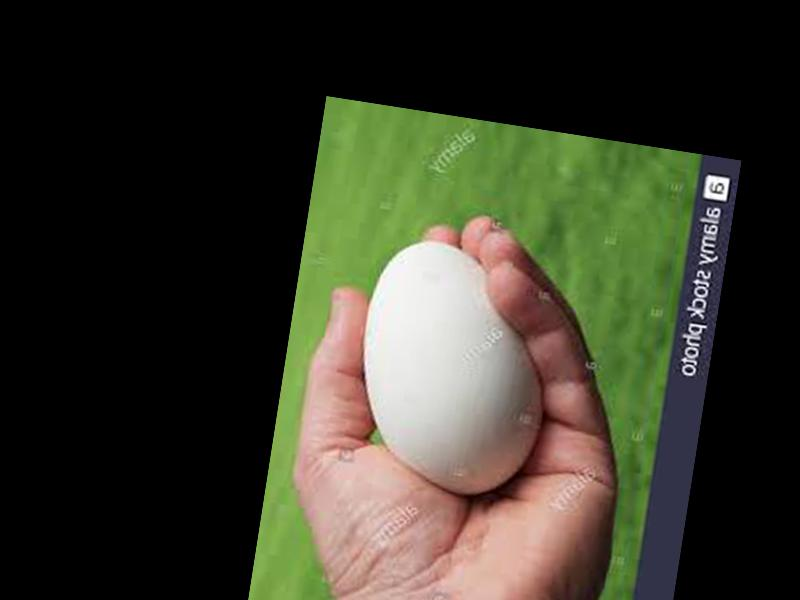Eggs: (340, 234, 566, 508)
